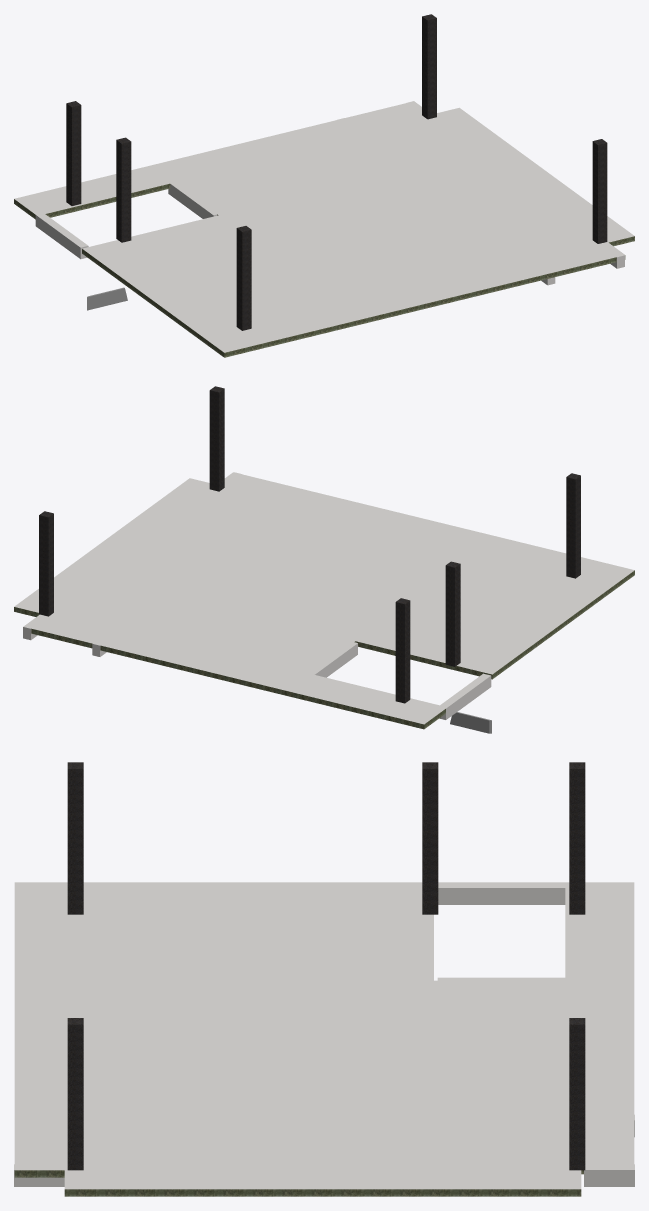
3 renders of one model, top to bottom at view 1: azimuth 30°, elevation 25°; view 2: azimuth 150°, elevation 25°; view 3: azimuth 270°, elevation 25°, orthographic. The views are drawn at different scales.
Parts seen in each view (by area): view 1: Floor Floor-Grnd-Susp_65Scr-80Ins-100Blk-75PC [631870]001, Columns_Rectangular 300 x 300 mm [343010]001, Columns_Rectangular 300 x 300 mm [351484]001, Columns_Rectangular 300 x 300 mm [343383]001, Columns_Rectangular 300 x 300 mm [342213]001, Columns_Rectangular 300 x 300 mm [342659]001, Concrete - Rectangular Beam 250 x 350 mm [654977]001, Concrete - Rectangular Beam 250 x 350 mm [654899]001, Concrete - Rectangular Beam 250 x 350 mm [658372]001, Concrete - Rectangular Beam 250 x 350 mm [660893]001, Assembled Stair Stair [630597]_[636881]001; view 2: Floor Floor-Grnd-Susp_65Scr-80Ins-100Blk-75PC [631870]001, Columns_Rectangular 300 x 300 mm [342213]001, Columns_Rectangular 300 x 300 mm [343383]001, Columns_Rectangular 300 x 300 mm [351484]001, Columns_Rectangular 300 x 300 mm [342659]001, Columns_Rectangular 300 x 300 mm [343010]001, Concrete - Rectangular Beam 250 x 350 mm [654977]001, Concrete - Rectangular Beam 250 x 350 mm [654899]001, Concrete - Rectangular Beam 250 x 350 mm [658372]001, Concrete - Rectangular Beam 250 x 350 mm [660893]001, Assembled Stair Stair [630597]_[636881]001; view 3: Floor Floor-Grnd-Susp_65Scr-80Ins-100Blk-75PC [631870]001, Concrete - Rectangular Beam 250 x 350 mm [654977]001, Concrete - Rectangular Beam 250 x 350 mm [658372]001, Columns_Rectangular 300 x 300 mm [343010]001, Columns_Rectangular 300 x 300 mm [343383]001, Columns_Rectangular 300 x 300 mm [351484]001, Columns_Rectangular 300 x 300 mm [342213]001, Columns_Rectangular 300 x 300 mm [342659]001.
Boxes of the visible parts, x1,y1,x2,y2 form: Floor Floor-Grnd-Susp_65Scr-80Ins-100Blk-75PC [631870]001: [14, 102, 634, 357]; Columns_Rectangular 300 x 300 mm [343010]001: [236, 226, 251, 330]; Columns_Rectangular 300 x 300 mm [351484]001: [116, 137, 131, 242]; Columns_Rectangular 300 x 300 mm [343383]001: [66, 101, 81, 205]; Columns_Rectangular 300 x 300 mm [342213]001: [592, 139, 607, 243]; Columns_Rectangular 300 x 300 mm [342659]001: [422, 14, 436, 119]; Concrete - Rectangular Beam 250 x 350 mm [654977]001: [407, 101, 624, 268]; Concrete - Rectangular Beam 250 x 350 mm [654899]001: [337, 118, 555, 285]; Concrete - Rectangular Beam 250 x 350 mm [658372]001: [35, 213, 88, 259]; Concrete - Rectangular Beam 250 x 350 mm [660893]001: [168, 180, 220, 218]; Assembled Stair Stair [630597]_[636881]001: [87, 287, 127, 310]; Floor Floor-Grnd-Susp_65Scr-80Ins-100Blk-75PC [631870]001: [14, 472, 634, 729]; Columns_Rectangular 300 x 300 mm [342213]001: [209, 386, 224, 491]; Columns_Rectangular 300 x 300 mm [343383]001: [395, 598, 410, 703]; Columns_Rectangular 300 x 300 mm [351484]001: [445, 561, 460, 666]; Columns_Rectangular 300 x 300 mm [342659]001: [39, 511, 53, 616]; Columns_Rectangular 300 x 300 mm [343010]001: [566, 473, 580, 578]; Concrete - Rectangular Beam 250 x 350 mm [654977]001: [23, 472, 241, 640]; Concrete - Rectangular Beam 250 x 350 mm [654899]001: [92, 489, 310, 656]; Concrete - Rectangular Beam 250 x 350 mm [658372]001: [439, 673, 491, 719]; Concrete - Rectangular Beam 250 x 350 mm [660893]001: [305, 642, 357, 677]; Assembled Stair Stair [630597]_[636881]001: [450, 712, 491, 733]; Floor Floor-Grnd-Susp_65Scr-80Ins-100Blk-75PC [631870]001: [14, 882, 634, 1196]; Concrete - Rectangular Beam 250 x 350 mm [654977]001: [14, 1164, 634, 1186]; Concrete - Rectangular Beam 250 x 350 mm [658372]001: [438, 882, 569, 904]; Columns_Rectangular 300 x 300 mm [343010]001: [67, 762, 83, 914]; Columns_Rectangular 300 x 300 mm [343383]001: [569, 762, 585, 914]; Columns_Rectangular 300 x 300 mm [351484]001: [422, 762, 438, 914]; Columns_Rectangular 300 x 300 mm [342213]001: [67, 1018, 83, 1170]; Columns_Rectangular 300 x 300 mm [342659]001: [569, 1018, 585, 1170].
Size of the model in its own units: 13.56 by 4.85 by 11.58.
Materials: 5 (2 with a texture image).
